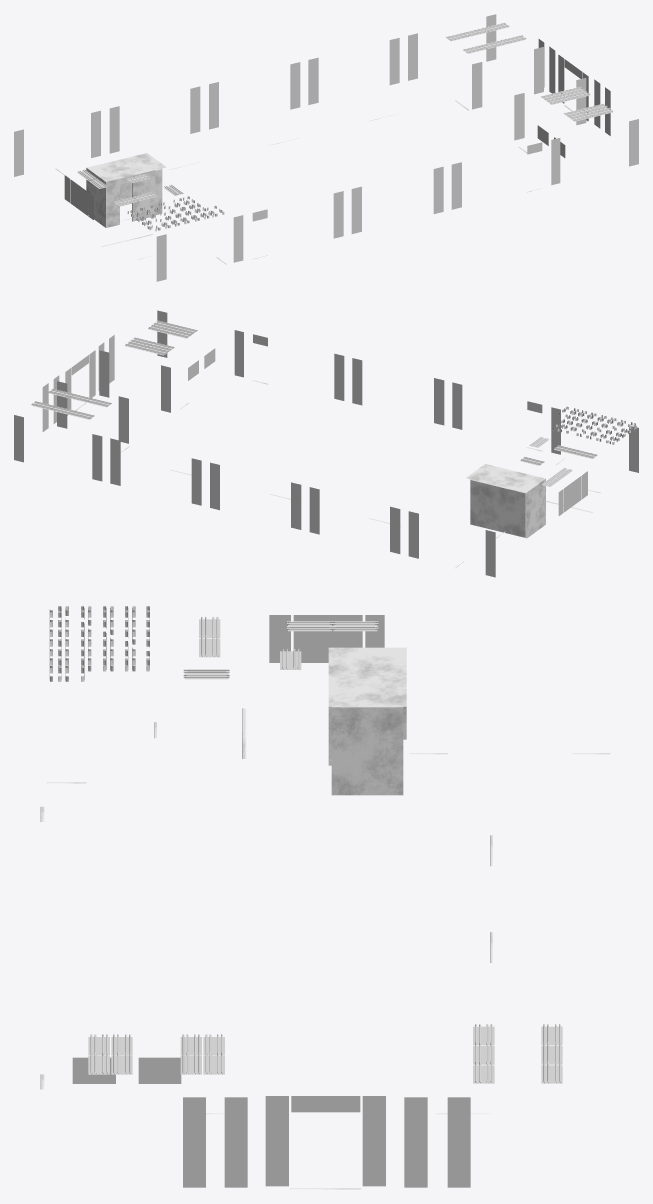
Rendered from Winchester Unbaked.fbx.
3 renders of one model, top to bottom at view 1: azimuth 30°, elevation 25°; view 2: azimuth 150°, elevation 25°; view 3: azimuth 270°, elevation 25°, orthographic. The views are drawn at different scales.
Visible parts, largest first — view 1: Unbaked; view 2: Unbaked; view 3: Unbaked.
Boxes of the visible parts, x1,y1,x2,y2 form: Unbaked: (14,14,638,281); Unbaked: (14,310,638,577); Unbaked: (40,606,610,1189).
Bounding box in the file's own units: 2517 × 269 × 1261.
